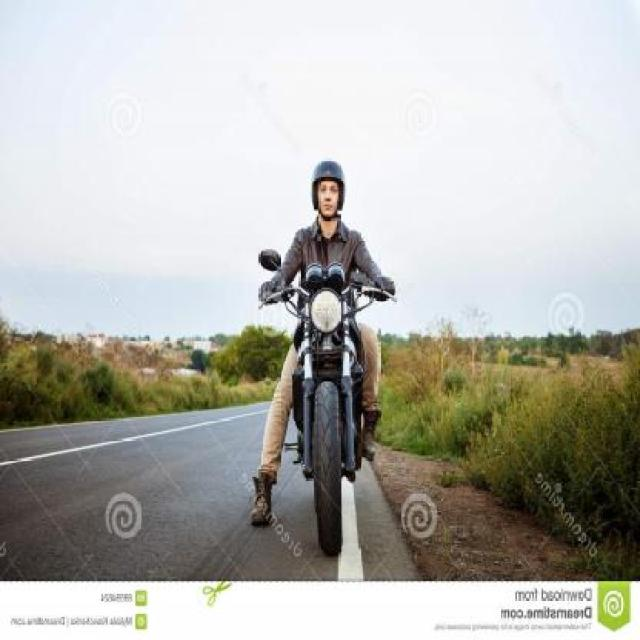helmet: (295, 158, 358, 226)
motorcycle: (226, 155, 416, 566)
